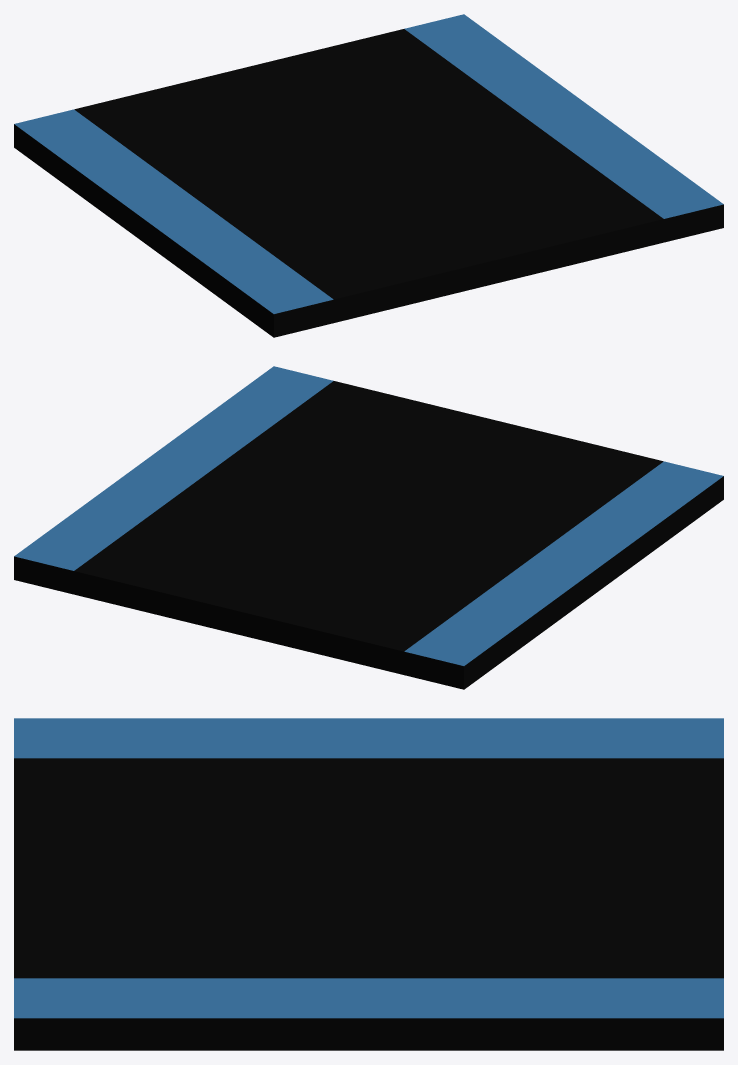
File: road_end.fbx
The picture shows the model from 3 angles, top to bottom: view 1: azimuth 30°, elevation 25°; view 2: azimuth 150°, elevation 25°; view 3: azimuth 270°, elevation 25°; orthographic projection. The views are drawn at different scales.
Parts seen in each view (by area): view 1: Cube.001; view 2: Cube.001; view 3: Cube.001.
Part boxes in pixels (x1,y1,x2,y2): Cube.001: (14,14,723,337); Cube.001: (14,366,723,689); Cube.001: (14,718,723,1050).
Bounding box in the file's own units: 200 × 10 × 200.
